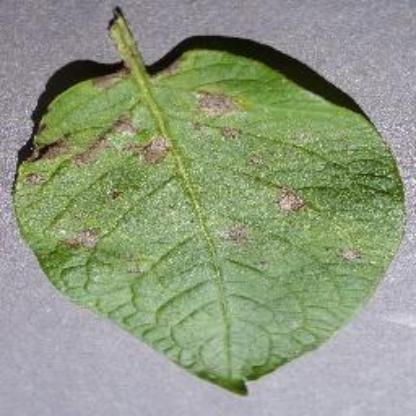Early-Blight: (18, 13, 404, 395)
